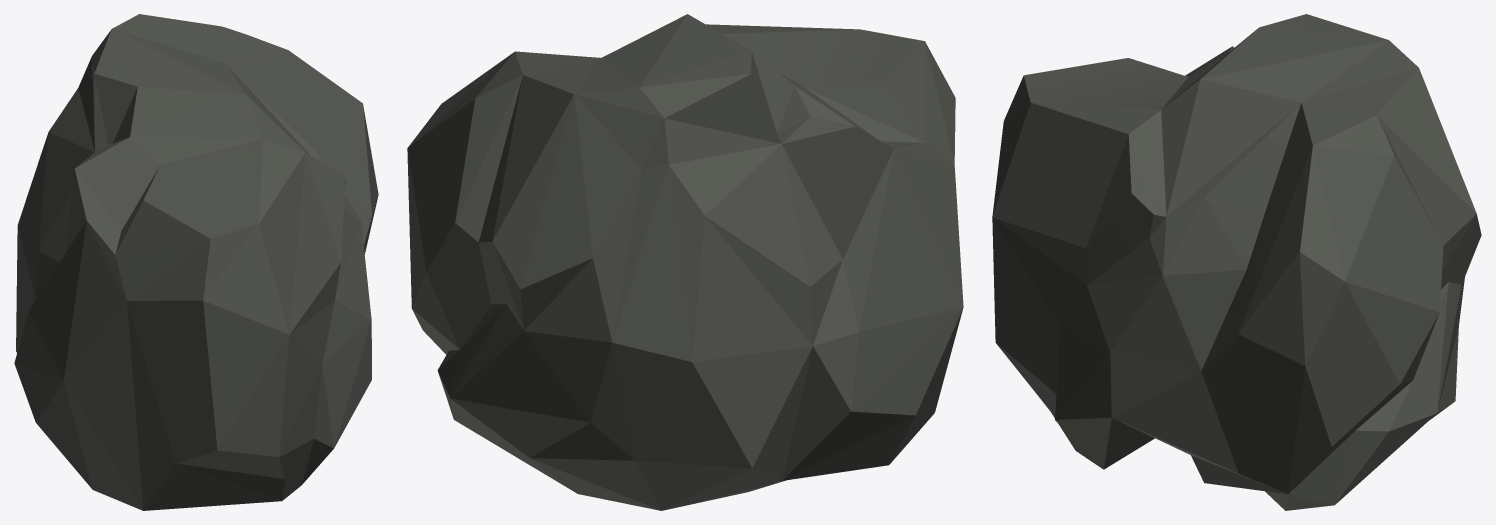
File: Rock_Cliff_05.fbx
3 renders of one model, left to right at view 1: azimuth 30°, elevation 25°; view 2: azimuth 150°, elevation 25°; view 3: azimuth 270°, elevation 25°, orthographic. The views are drawn at different scales.
Parts seen in each view (by area): view 1: Rock_Cliff_05; view 2: Rock_Cliff_05; view 3: Rock_Cliff_05.
Part boxes in pixels (<box>): Rock_Cliff_05: <box>14,14,378,510</box>; Rock_Cliff_05: <box>407,14,963,510</box>; Rock_Cliff_05: <box>992,14,1481,510</box>.
Bounding box in the file's own units: 633 × 587 × 643.
1 material, 1 textured.
